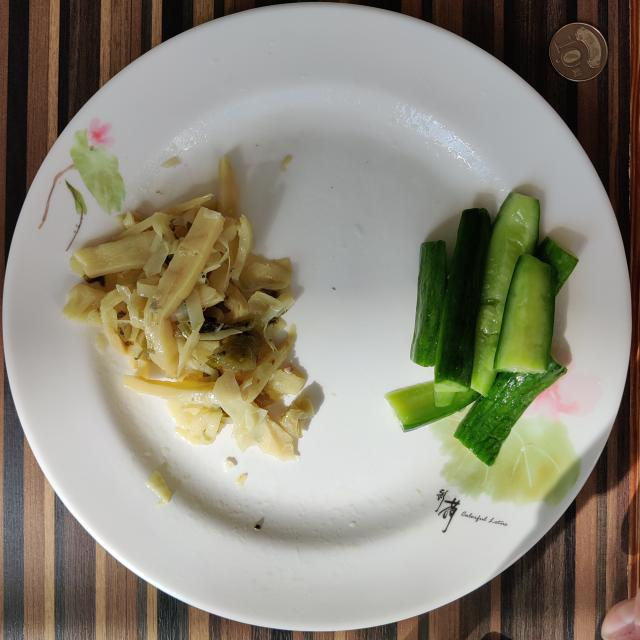coin: (550, 22, 608, 81)
cucumber: (386, 192, 578, 465)
